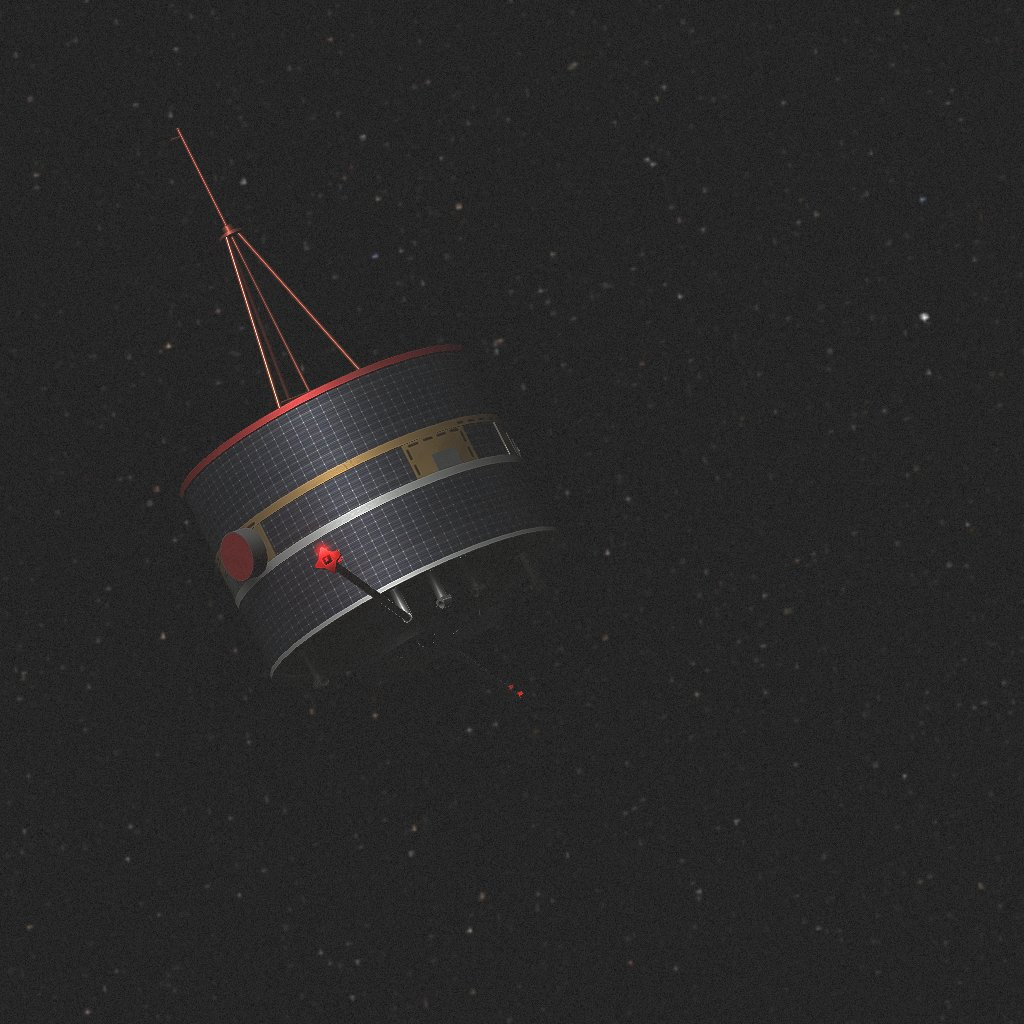double_star: (171, 128, 564, 701)
